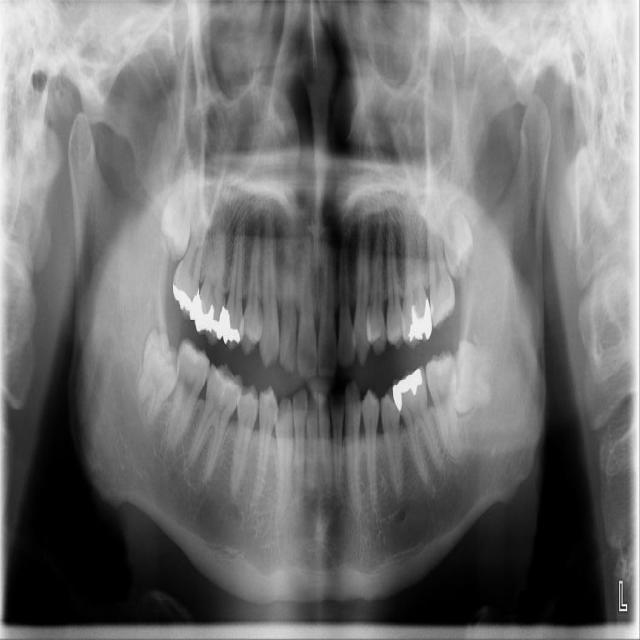3M ESPE Implant: (154, 149, 203, 265)
52: (384, 364, 440, 422), (190, 284, 230, 348), (398, 288, 434, 350), (172, 259, 199, 321), (429, 272, 456, 332), (222, 300, 244, 350)
73: (584, 527, 584, 552)
BioHorizons Implant: (425, 207, 457, 330)
BioLife Implant: (428, 172, 480, 283)
Biomet 3i Implant: (447, 339, 504, 417)
Blue Sky Bio Implant: (422, 348, 464, 464)
Caries: (168, 195, 212, 321)
Implant: (160, 336, 215, 452)
Keystone Dental Implant: (130, 327, 186, 433)
